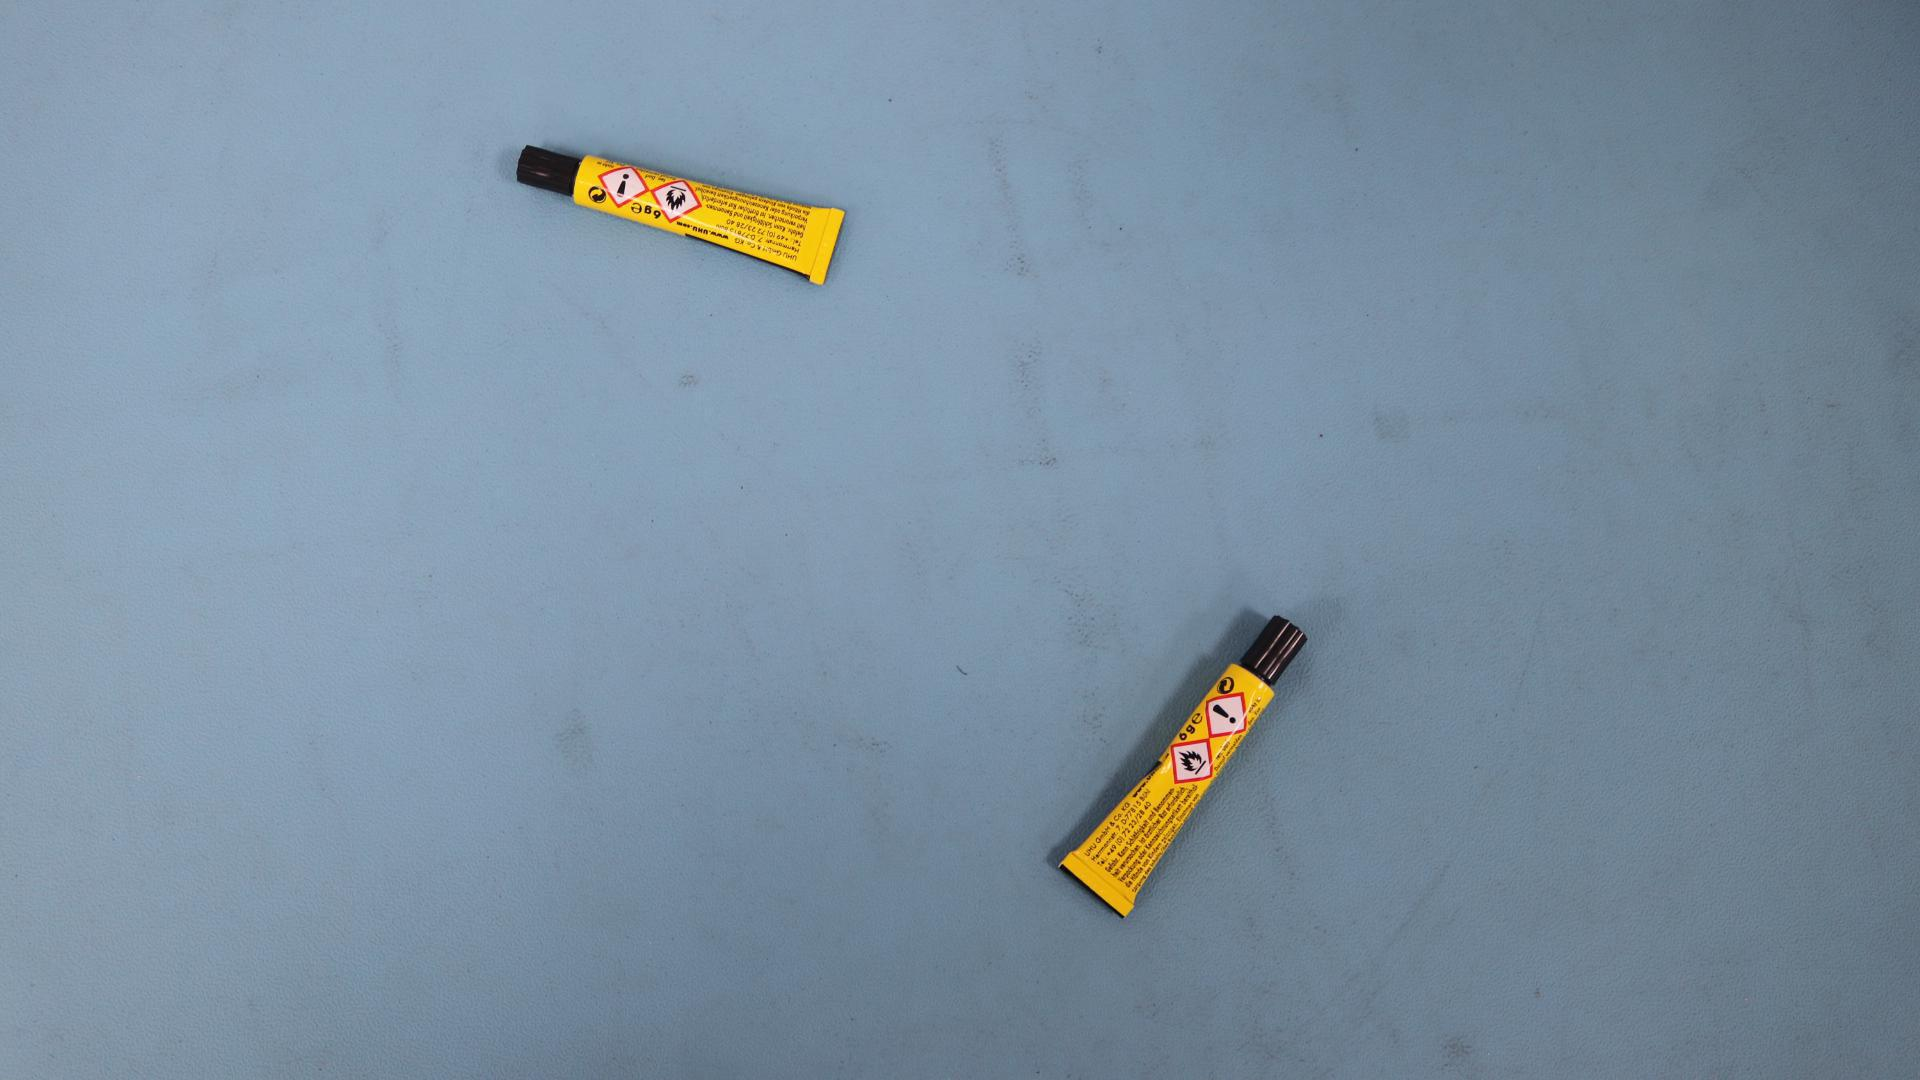Head: (1270, 644, 1280, 654), (543, 165, 551, 173)
Tail: (1094, 882, 1103, 891), (823, 245, 830, 252)
Tube: (1059, 614, 1308, 916), (516, 144, 846, 286)
